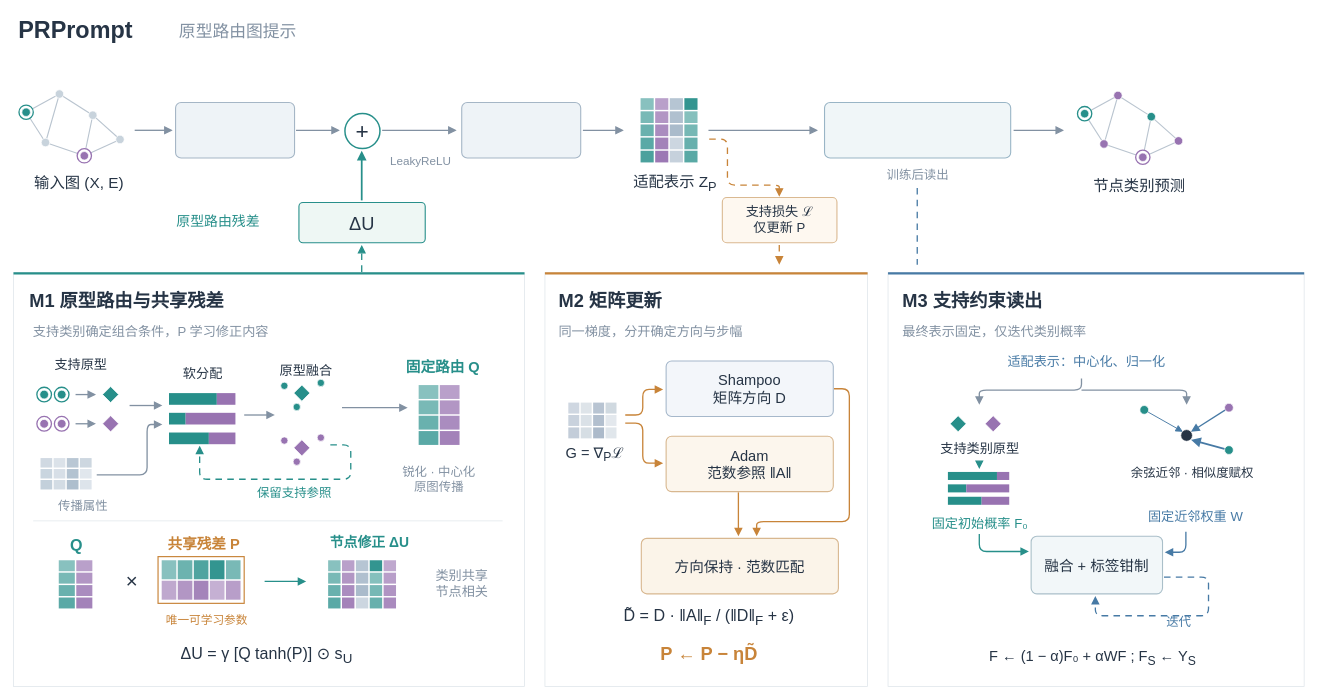
Image size: 1318x699. Some labels were removed from this diagram. Each missing label, with the centre of its shape:
冻结 GCN₁: [235,130]
冻结 GCN₂: [521,130]
支持约束概率传播: [917,130]
